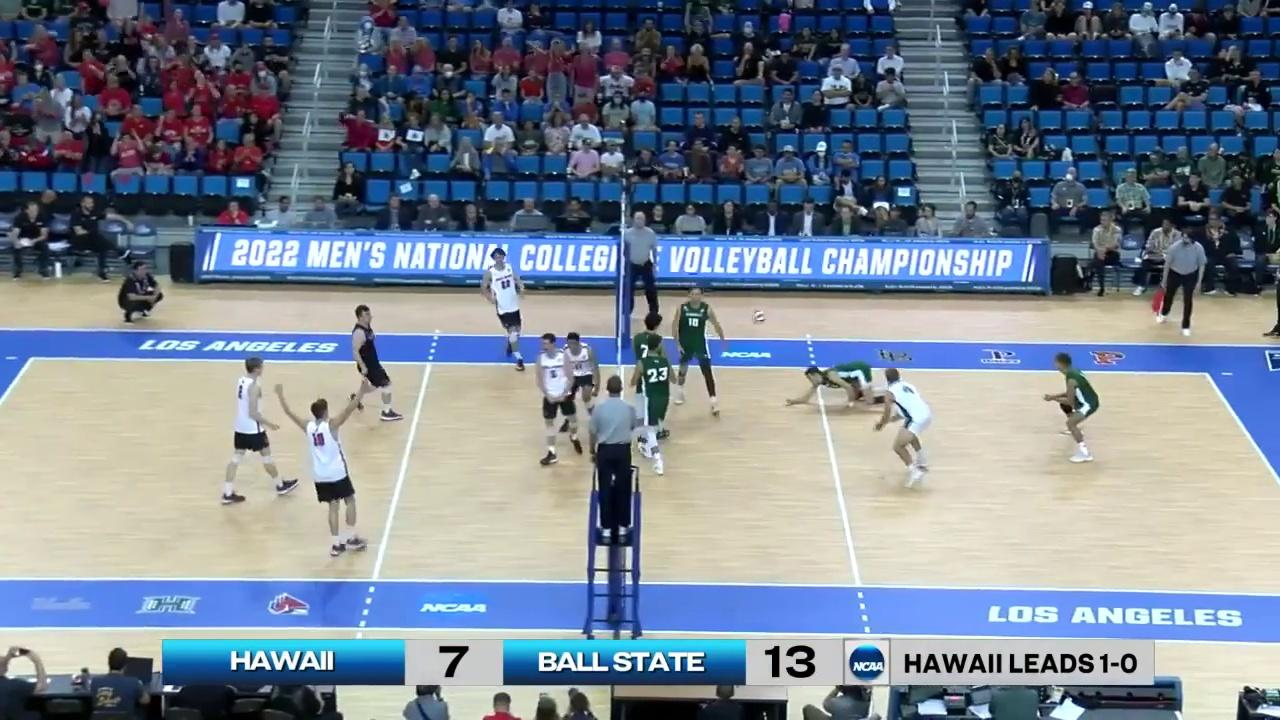player: (219, 355, 295, 501), (297, 399, 365, 559), (875, 367, 934, 490), (675, 285, 721, 415), (1049, 355, 1101, 464), (351, 307, 400, 421), (787, 358, 897, 407), (482, 249, 525, 370), (638, 336, 674, 473), (538, 335, 576, 463), (636, 314, 667, 445), (562, 335, 600, 434)
refree: (583, 377, 640, 541), (1157, 230, 1204, 338), (619, 213, 660, 322)
